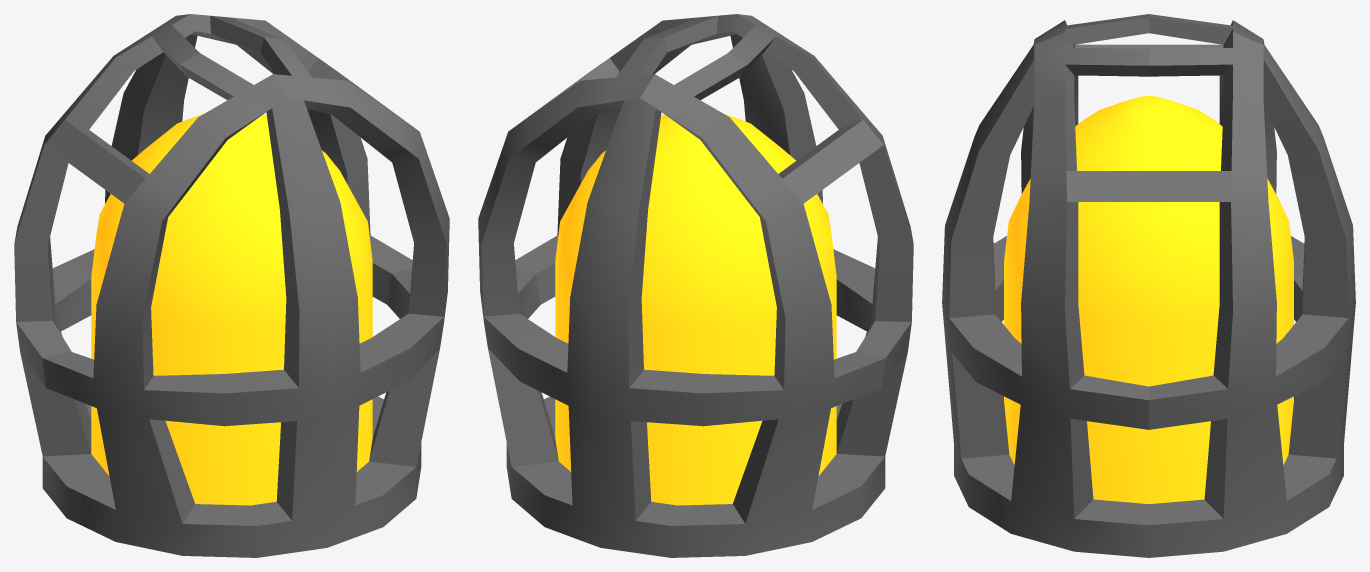
The model's file is WarningLight-1.glb.
The picture shows the model from 3 angles, left to right: view 1: azimuth 30°, elevation 25°; view 2: azimuth 150°, elevation 25°; view 3: azimuth 270°, elevation 25°; orthographic projection. The views are drawn at different scales.
Parts seen in each view (by area): view 1: WarningLight; view 2: WarningLight; view 3: WarningLight.
Boxes of the visible parts, x1=… form: WarningLight: x1=14, y1=14, x2=449, y2=557; WarningLight: x1=478, y1=14, x2=913, y2=557; WarningLight: x1=942, y1=14, x2=1355, y2=557.
Bounding box in the file's own units: 0.4469 × 0.4885 × 0.4131.
